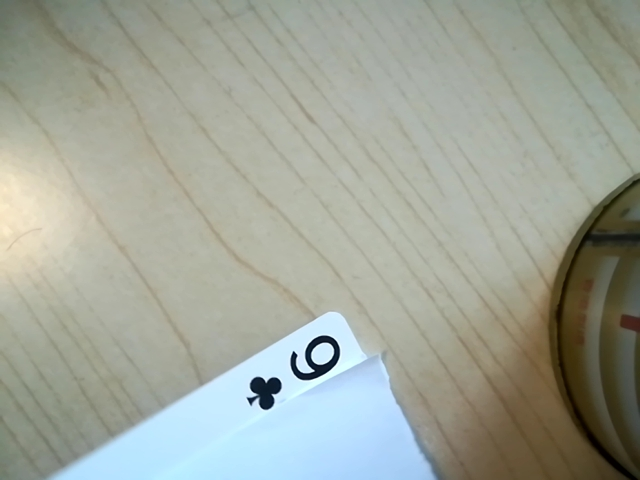mh 9: (237, 327, 357, 409)
